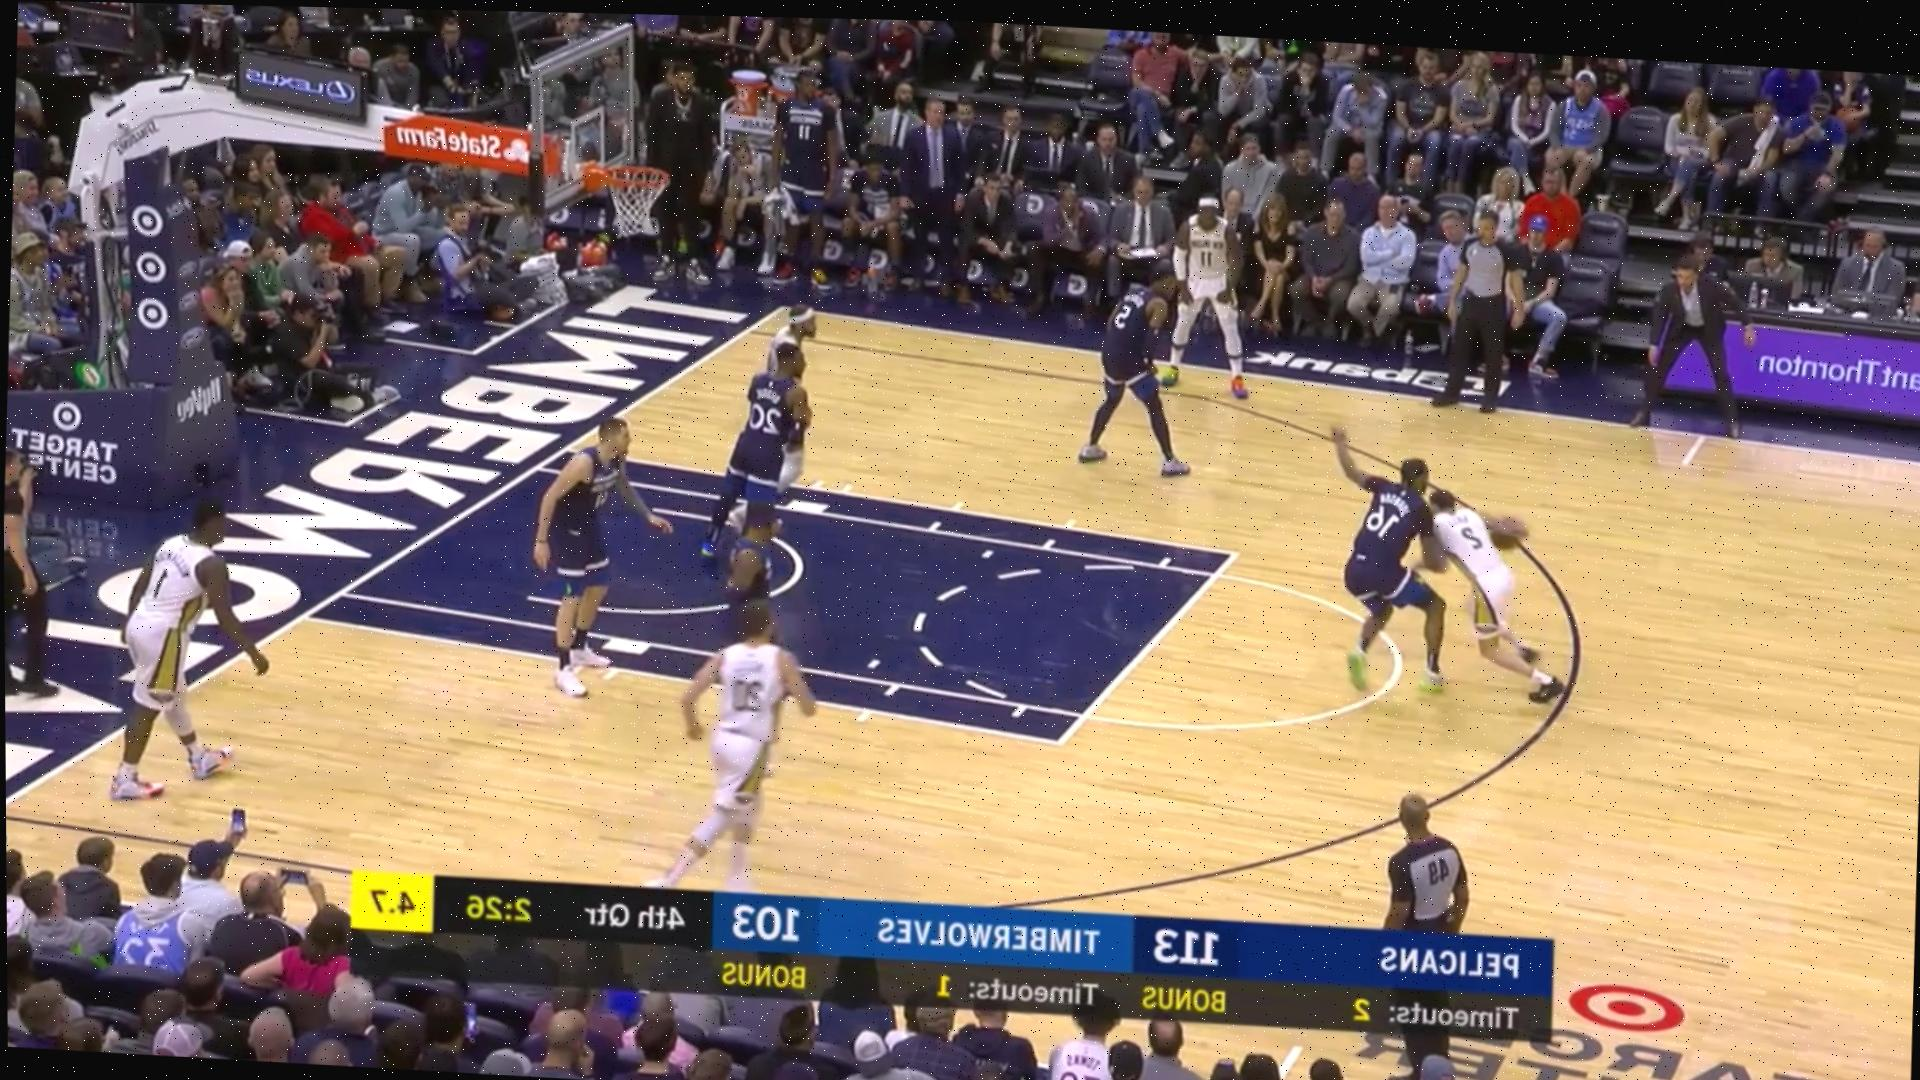no_foul: (1331, 439, 1539, 696)
